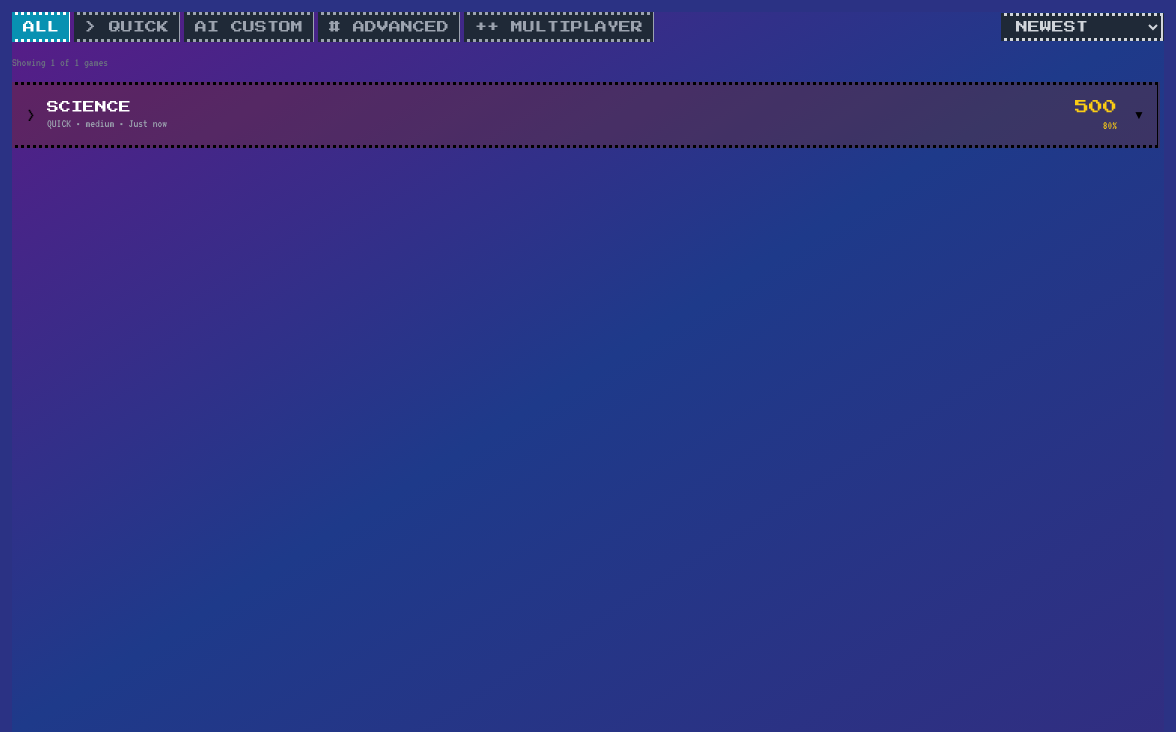
GameHistoryList › with entries › shows playerName when present
The image size is (1176, 732).
Click the button with aria-label "game details" at (89, 107), box [15,85,1157,145]
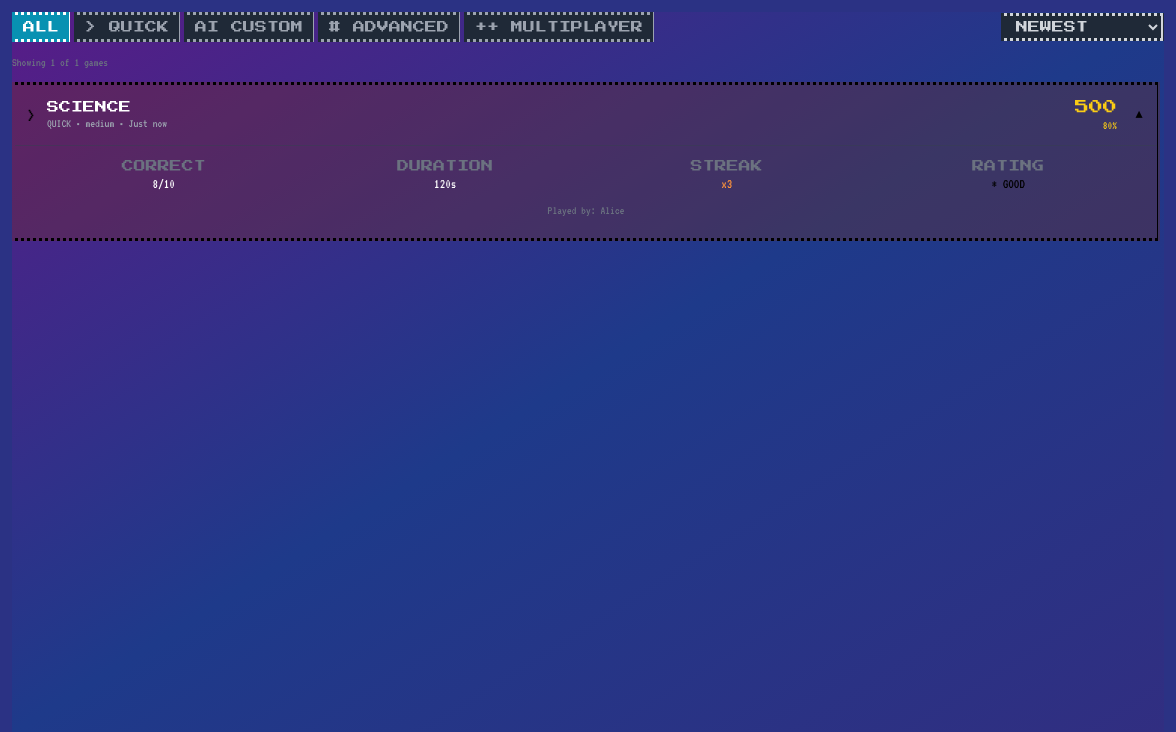
expect the text "Played by: Alice" is shown: met, box [548,204,624,216]
